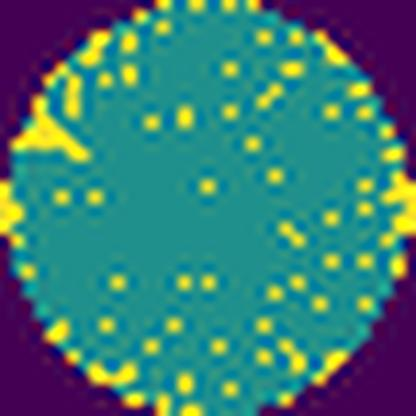Edge-Loc: (10, 94, 98, 168), (378, 172, 415, 241), (0, 183, 26, 240)
